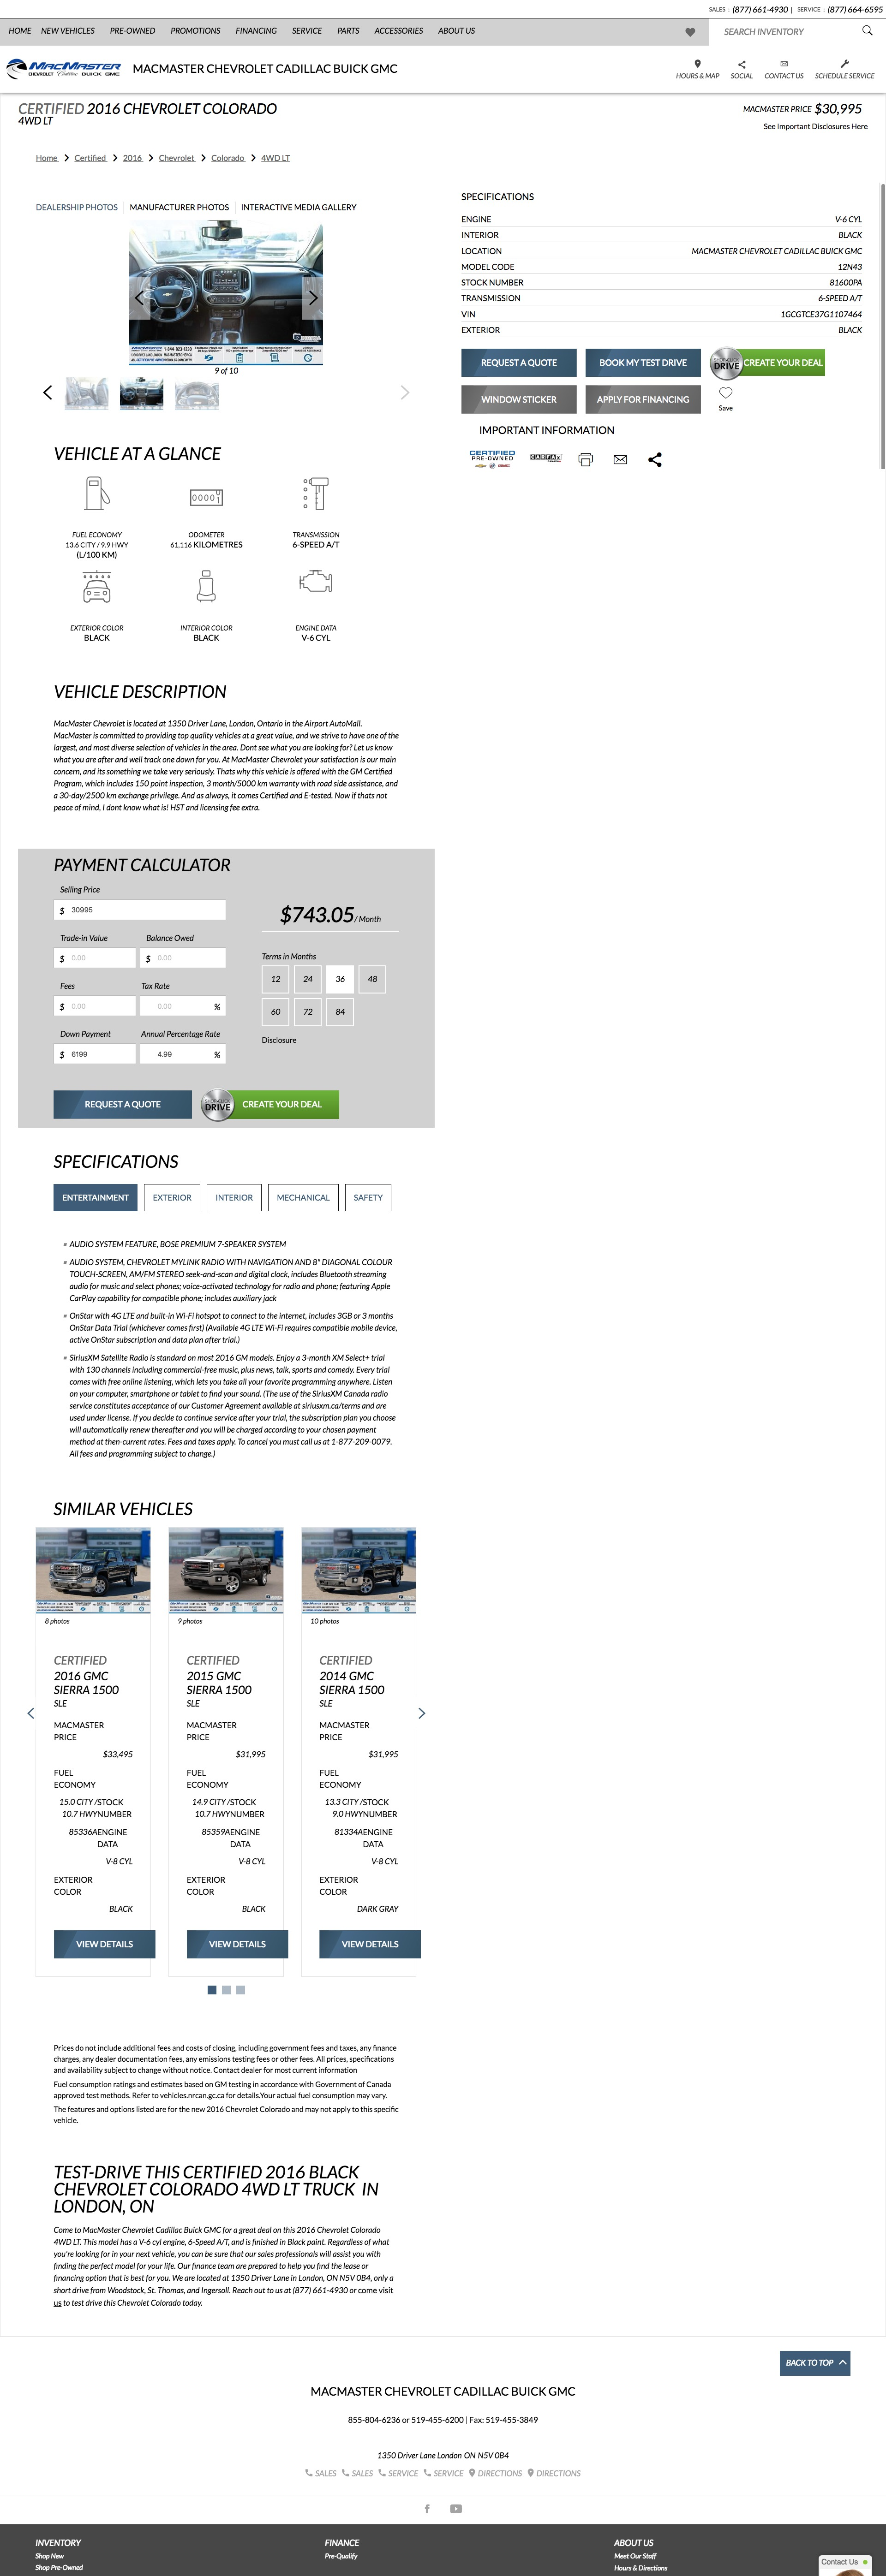car: (396, 381, 413, 404)
